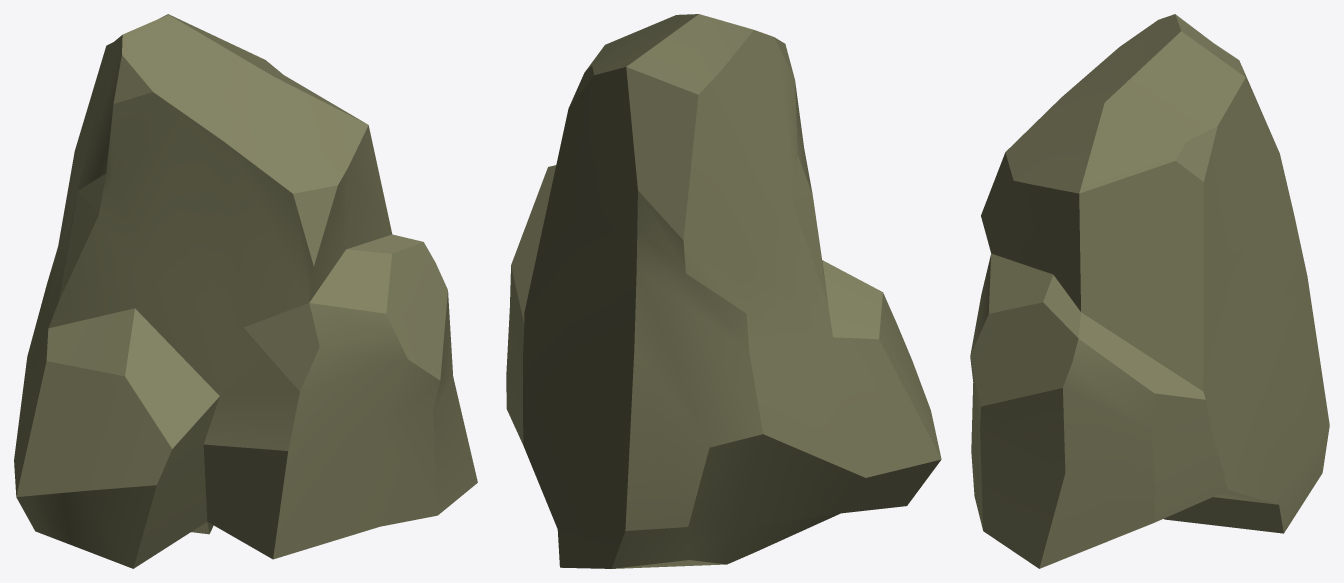
The model's file is rock_01.fbx.
3 renders of one model, left to right at view 1: azimuth 30°, elevation 25°; view 2: azimuth 150°, elevation 25°; view 3: azimuth 270°, elevation 25°, orthographic. The views are drawn at different scales.
Visible parts, largest first — view 1: rock_01; view 2: rock_01; view 3: rock_01.
Boxes of the visible parts, x1,y1,x2,y2 form: rock_01: (14, 14, 477, 568); rock_01: (506, 14, 941, 568); rock_01: (970, 14, 1329, 568).
Size of the model in its own units: 1.73 by 1.99 by 1.38.
